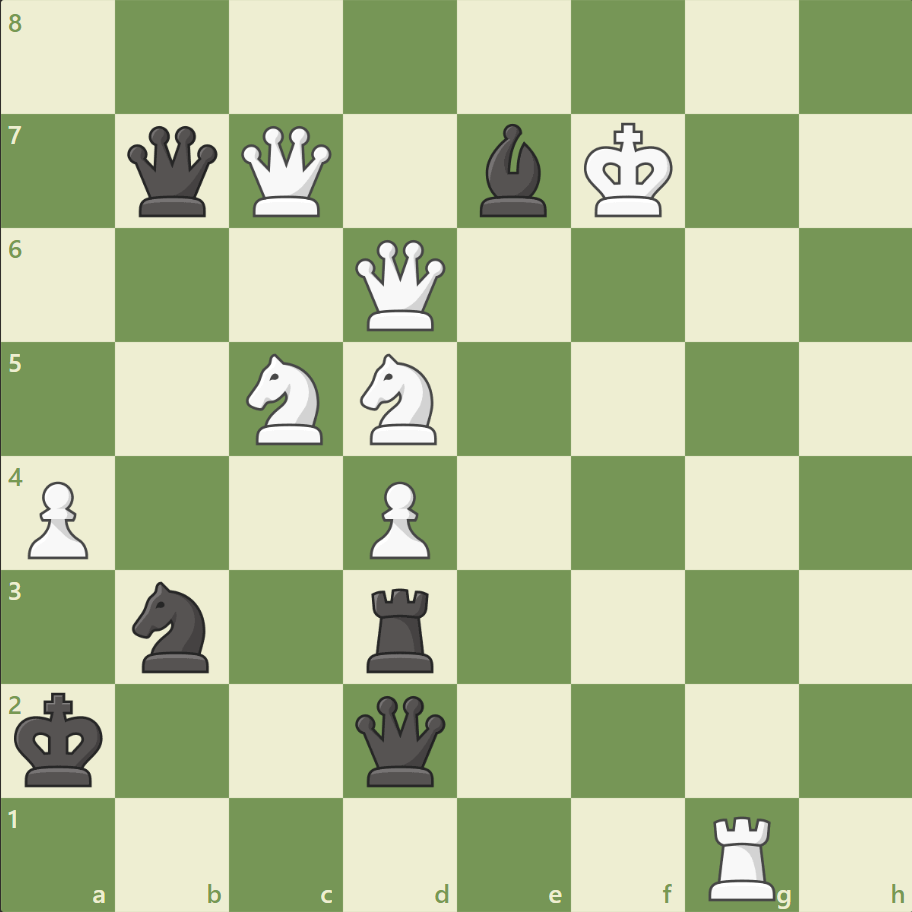K: (579, 117, 679, 225)
N: (351, 348, 449, 450), (238, 348, 335, 450)
P: (20, 473, 95, 564), (361, 473, 435, 564)
Q: (237, 122, 336, 222), (351, 236, 450, 335)
R: (700, 806, 783, 904)
b: (471, 120, 555, 222)
k: (11, 685, 111, 793)
n: (124, 575, 222, 677)
q: (124, 122, 223, 222), (351, 690, 450, 789)
r: (360, 579, 442, 676)
